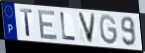9: (120, 15, 138, 48)
E: (37, 9, 59, 41)
G: (98, 14, 119, 47)
L: (59, 11, 77, 42)
T: (19, 8, 34, 39)
V: (77, 11, 97, 45)
